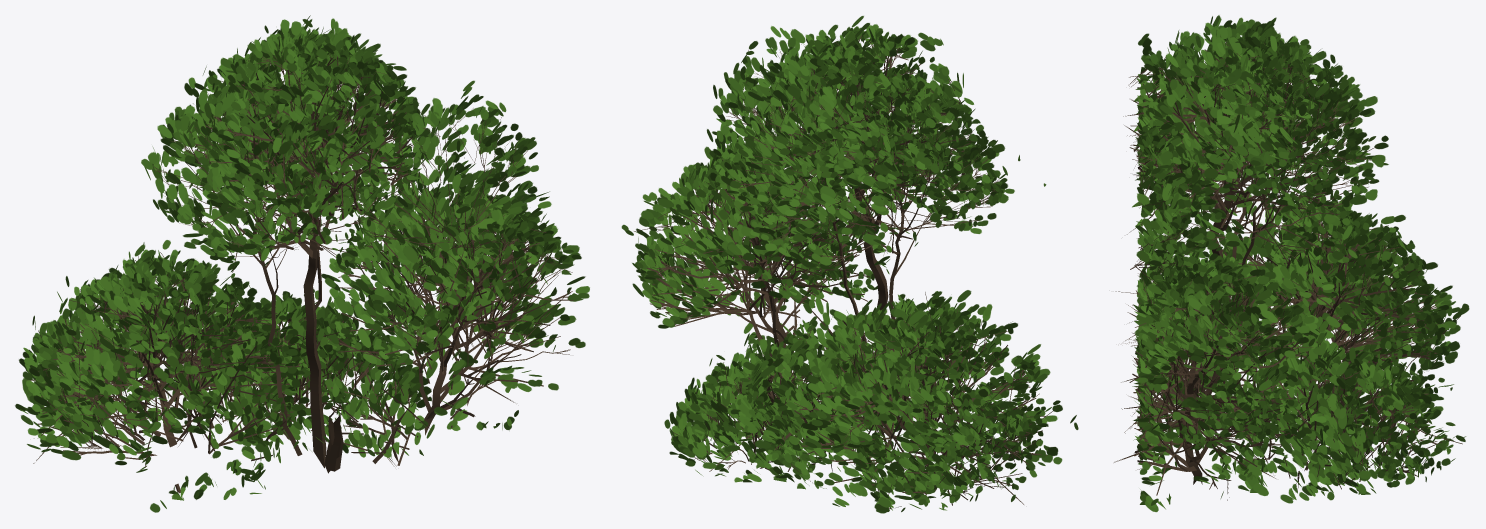
3 views of the same model, side by side, from view 1: azimuth 30°, elevation 25°; view 2: azimuth 150°, elevation 25°; view 3: azimuth 270°, elevation 25° (orthographic). The views are drawn at different scales.
Parts seen in each view (by area): view 1: oak 01.001_trunk_Mat.001_0.295; view 2: oak 01.001_trunk_Mat.001_0.295; view 3: oak 01.001_trunk_Mat.001_0.295.
Part boxes in pixels (x1=…): oak 01.001_trunk_Mat.001_0.295: x1=15, y1=15, x2=589, y2=512; oak 01.001_trunk_Mat.001_0.295: x1=621, y1=16, x2=1078, y2=513; oak 01.001_trunk_Mat.001_0.295: x1=1114, y1=15, x2=1469, y2=512.
Bounding box in the file's own units: 5.91 × 4.98 × 3.82.
Materials: 2 (1 with a texture image).
